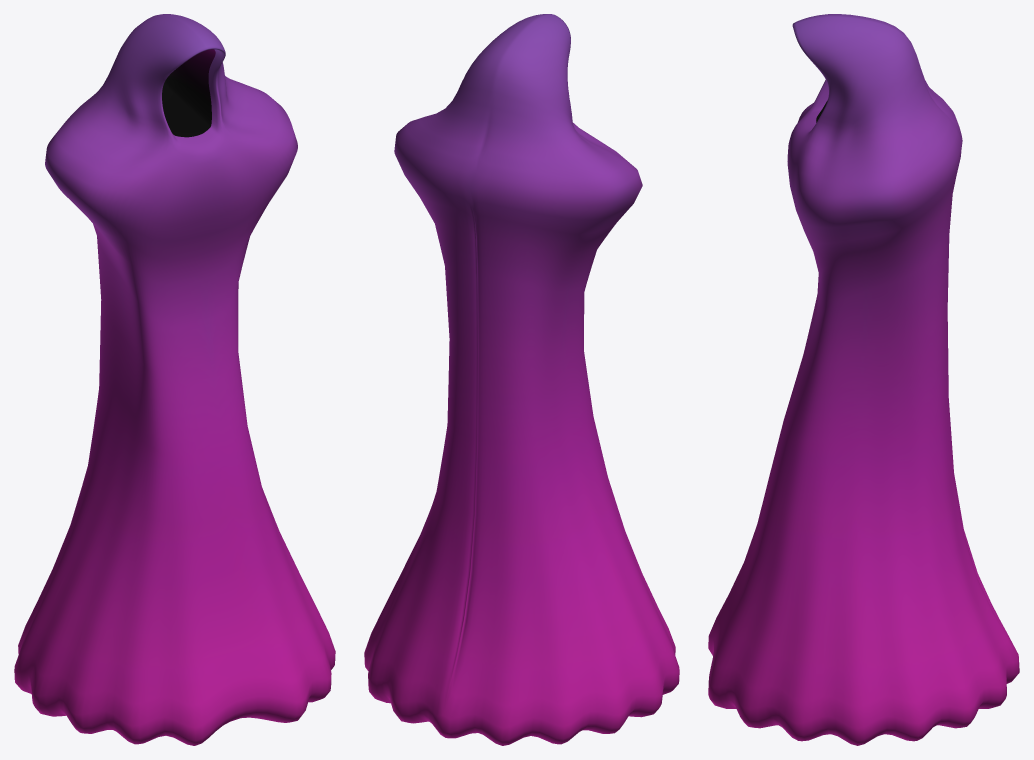
Rendered from Tänzer4.glb.
The picture shows the model from 3 angles, left to right: view 1: azimuth 30°, elevation 25°; view 2: azimuth 150°, elevation 25°; view 3: azimuth 270°, elevation 25°; orthographic projection.
Parts seen in each view (by area): view 1: MaskedOne; view 2: MaskedOne; view 3: MaskedOne.
Boxes of the visible parts, x1=… form: MaskedOne: x1=14, y1=14, x2=335, y2=745; MaskedOne: x1=364, y1=14, x2=679, y2=745; MaskedOne: x1=708, y1=14, x2=1019, y2=745.
Bounding box in the file's own units: 0.4213 × 0.9598 × 0.4042.
1 material, 1 textured.
